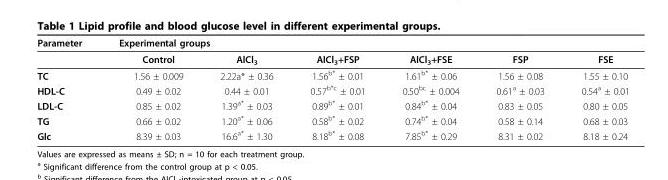table: (36, 36, 628, 141)
table column: (99, 36, 201, 141), (383, 36, 477, 141), (291, 36, 383, 141), (201, 36, 291, 141), (477, 36, 562, 141), (562, 36, 628, 141), (36, 36, 99, 141)
table column header: (36, 36, 628, 66)
table row: (36, 50, 628, 66), (36, 66, 628, 82), (36, 82, 628, 97), (36, 97, 628, 112), (36, 112, 628, 127), (36, 36, 628, 50), (36, 127, 628, 141)
table spanning cell: (99, 36, 628, 50), (36, 36, 99, 66)
